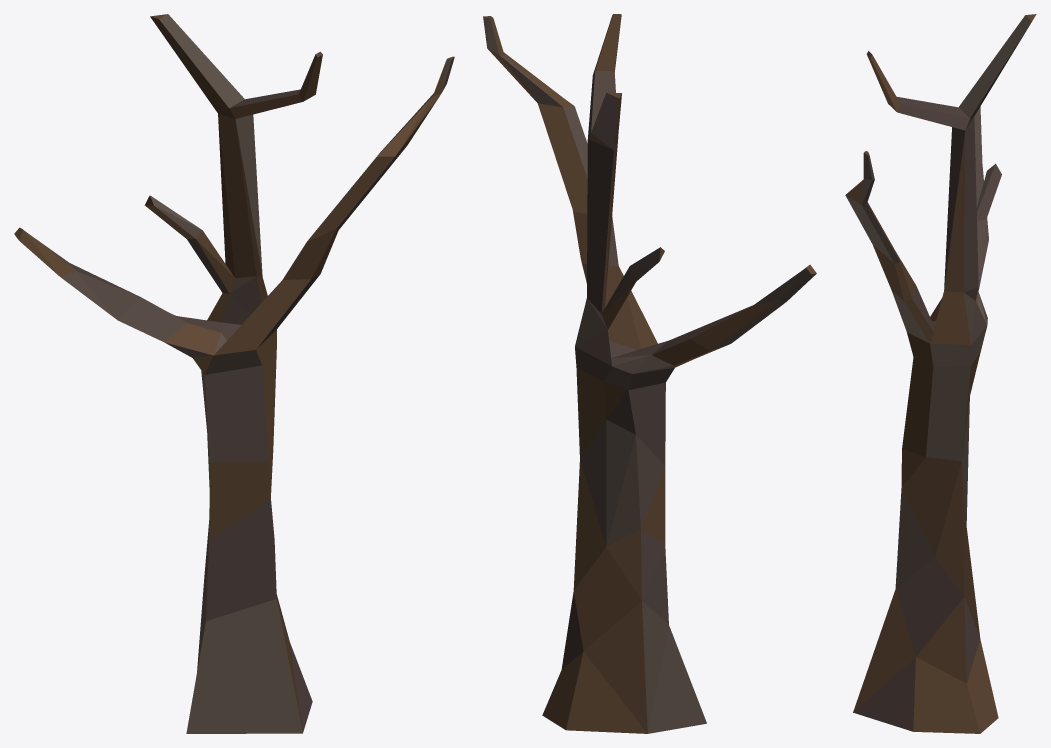
File: tree.dae
The picture shows the model from 3 angles, left to right: view 1: azimuth 30°, elevation 25°; view 2: azimuth 150°, elevation 25°; view 3: azimuth 270°, elevation 25°; orthographic projection.
Visible parts, largest first — view 1: DeadTree; view 2: DeadTree; view 3: DeadTree.
Boxes of the visible parts, x1,y1,x2,y2 form: DeadTree: (14,14,454,733); DeadTree: (483,14,816,733); DeadTree: (845,14,1036,733).
Size of the model in its own units: 2.12 by 0.9096 by 3.52.
